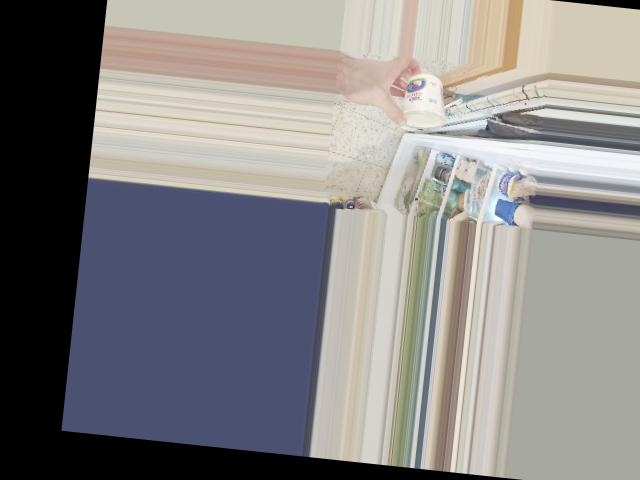cotage: (392, 70, 454, 134)
